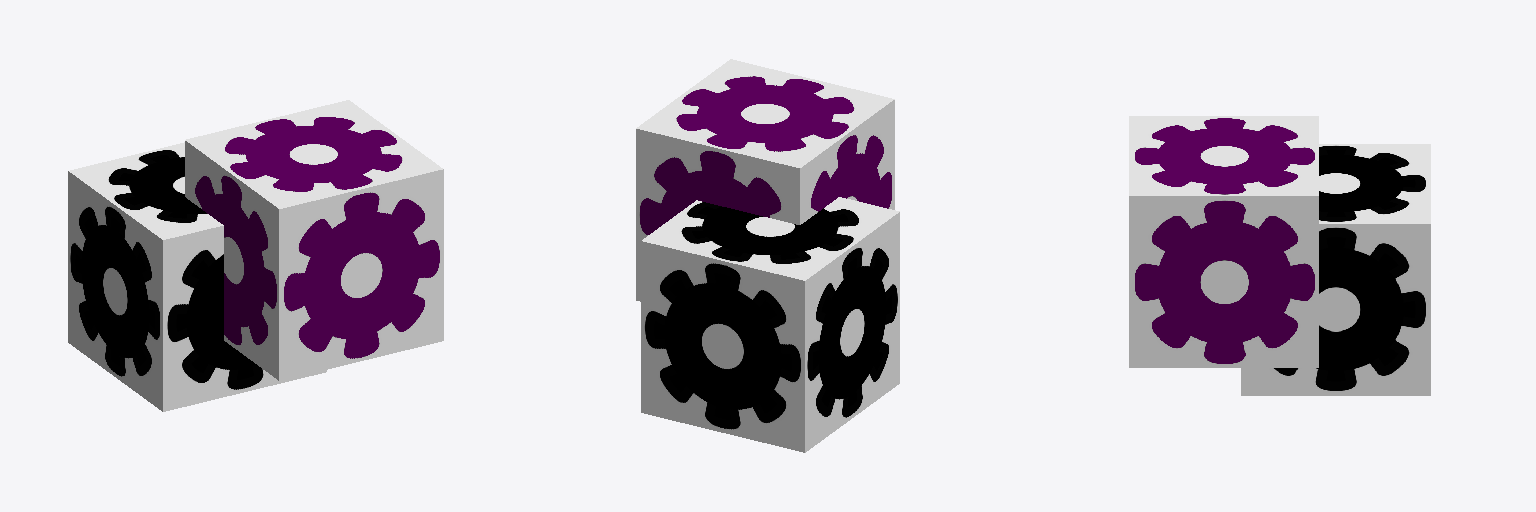
3 views of the same model, side by side, from view 1: azimuth 30°, elevation 25°; view 2: azimuth 150°, elevation 25°; view 3: azimuth 270°, elevation 25° (orthographic).
Visible parts, largest first — view 1: Cube.001_Cube0.002, Cube_Cube0; view 2: Cube_Cube0, Cube.001_Cube0.002; view 3: Cube.001_Cube0.002, Cube_Cube0.
Part boxes in pixels (left/top/right/bottom): Cube.001_Cube0.002: left=185, top=100, right=443, bottom=380; Cube_Cube0: left=68, top=142, right=326, bottom=411; Cube_Cube0: left=641, top=197, right=899, bottom=452; Cube.001_Cube0.002: left=636, top=59, right=894, bottom=301; Cube.001_Cube0.002: left=1129, top=116, right=1318, bottom=367; Cube_Cube0: left=1241, top=144, right=1430, bottom=395.
Size of the model in its own units: 2.74 by 2.66 by 3.17.
2 materials, 2 textured.